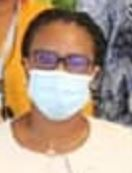with_facemask: (25, 70, 93, 123)
